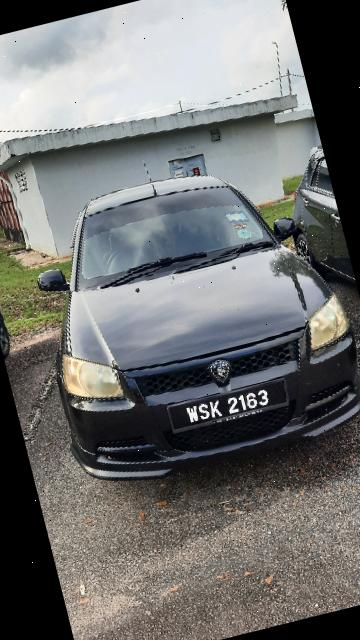License_Plate: (159, 365, 301, 444)
car: (15, 143, 360, 502)
